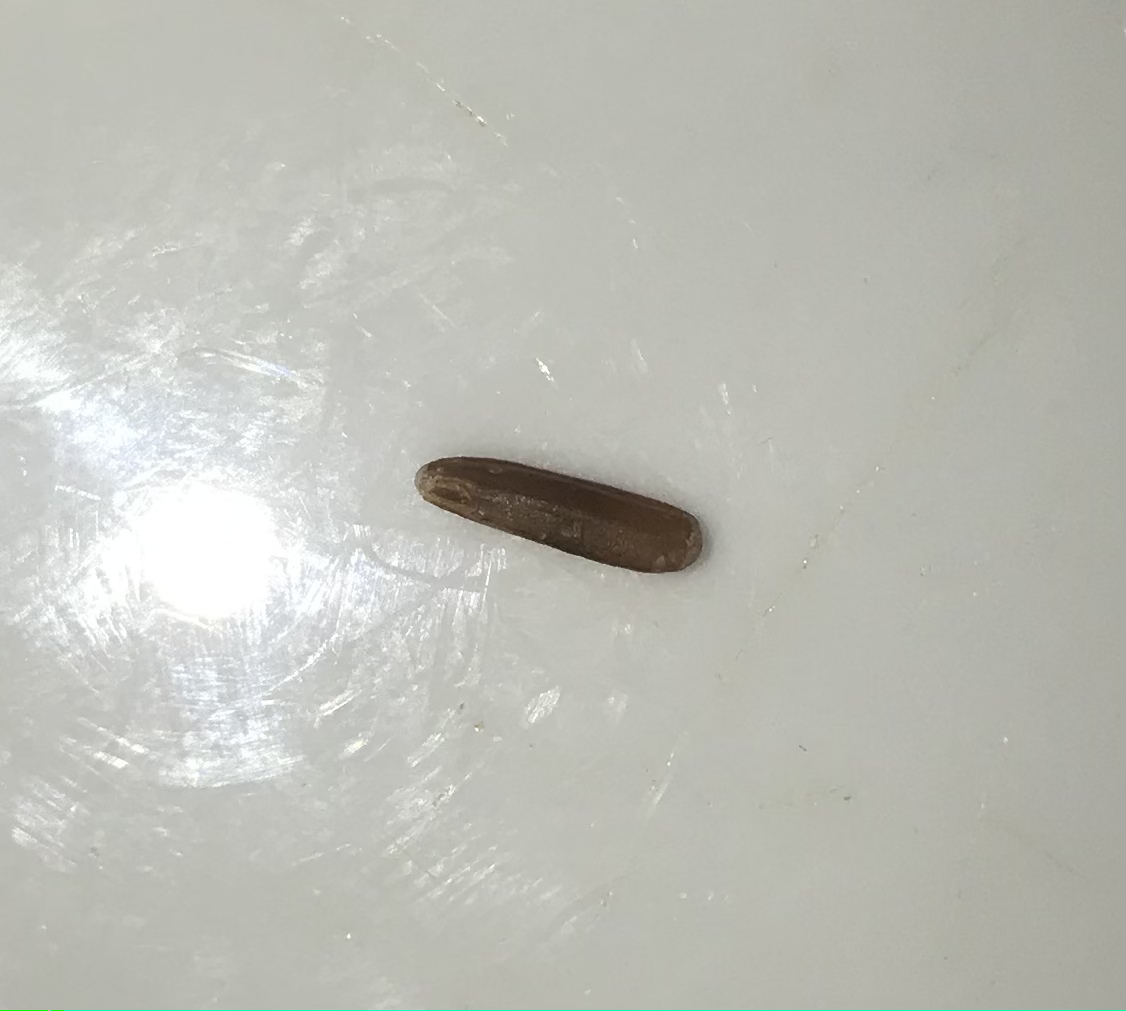Gao Lut Do: (410, 432, 715, 598)
